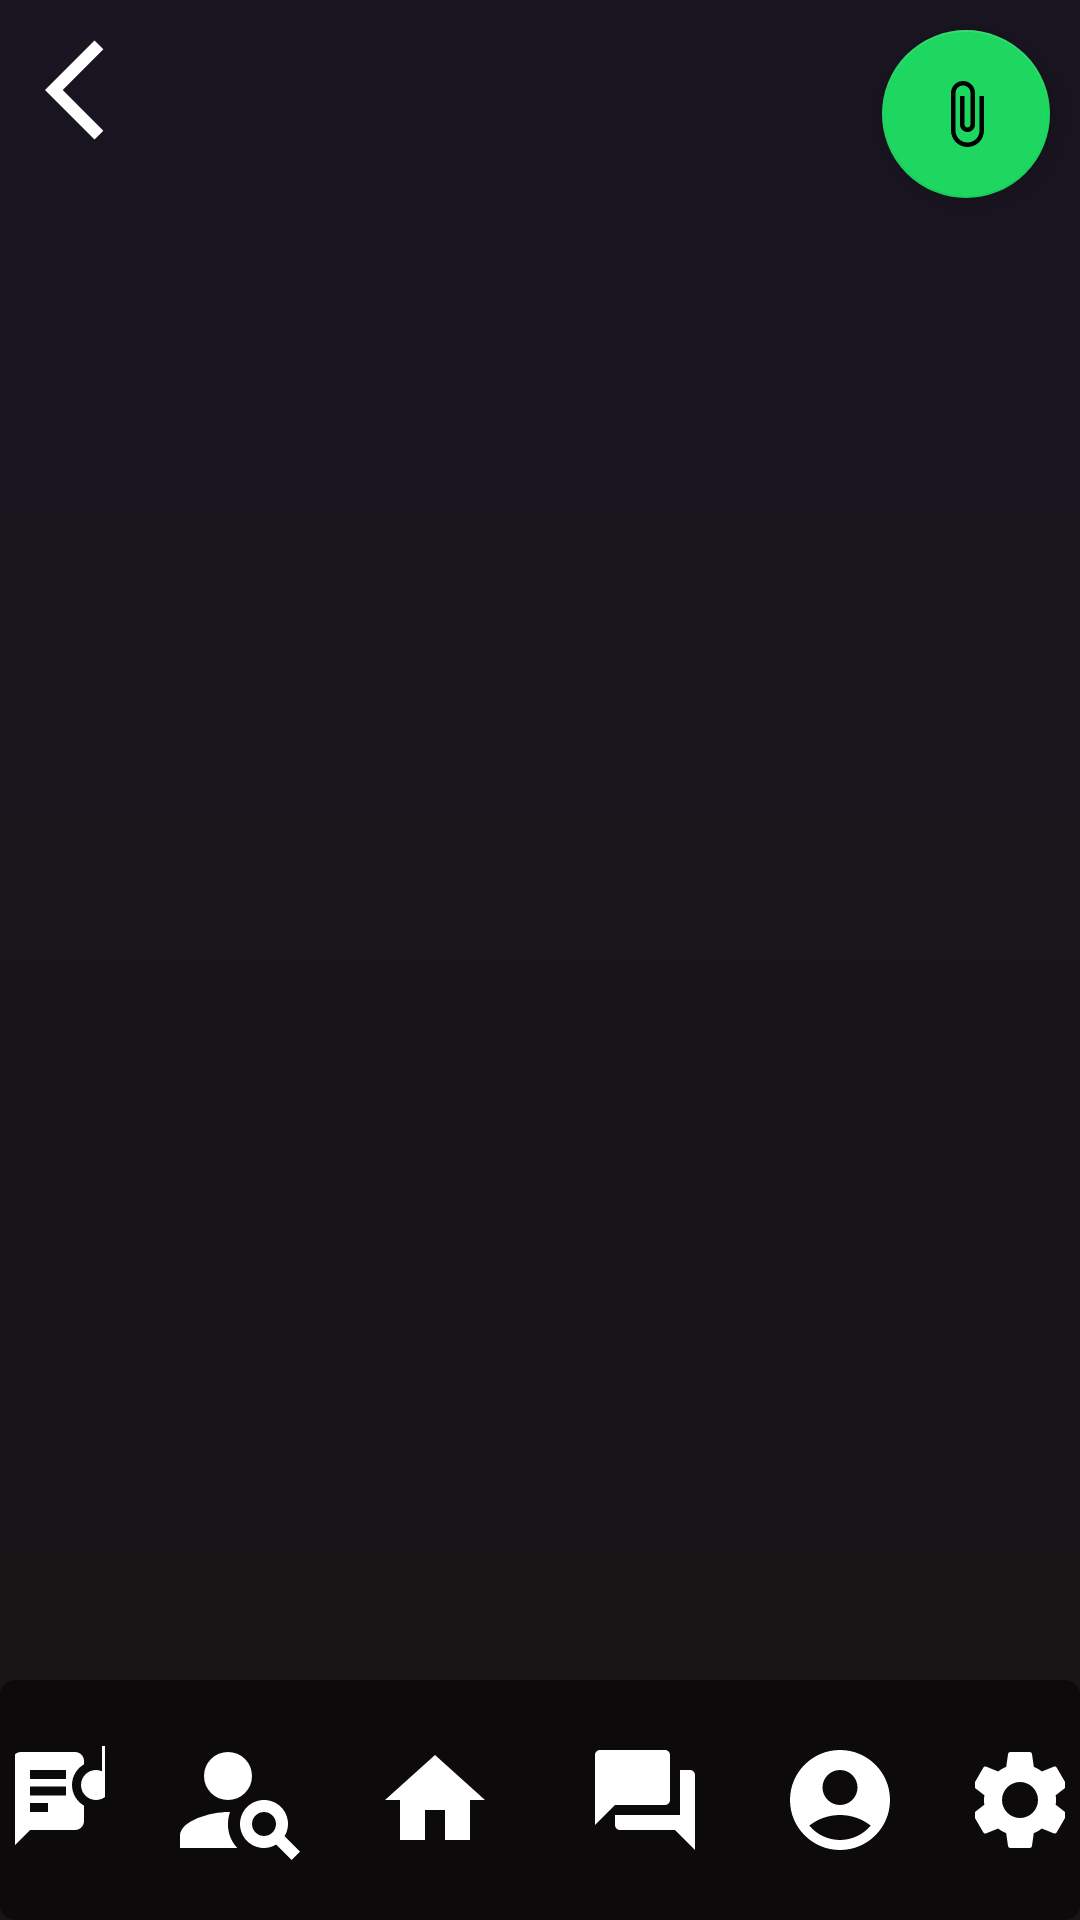

Icon click points for this 1080w x 1920h phone screenshot, format point (x, y):
account circle: point (840, 1800)
attach file: point (966, 114)
home: point (435, 1797)
lyrics: point (60, 1795)
person search: point (240, 1806)
question answer: point (645, 1800)
settings: point (1020, 1800)
